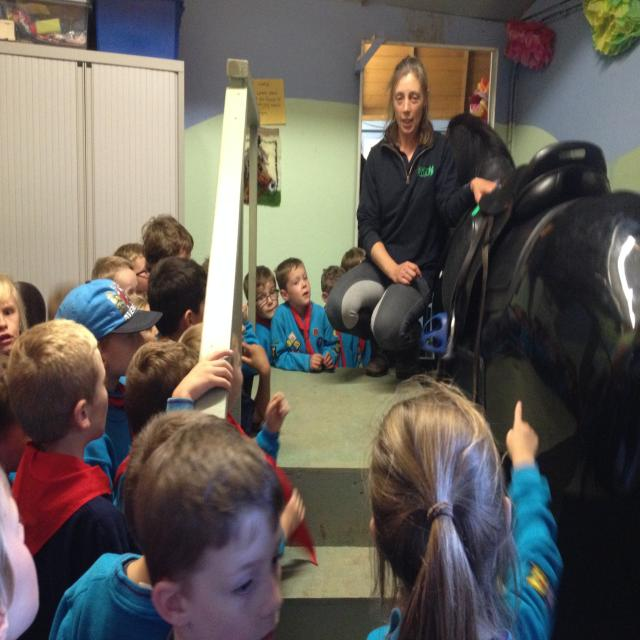body: (0, 388, 308, 640), (326, 55, 500, 383), (354, 376, 563, 640), (5, 318, 131, 640), (54, 278, 164, 518), (92, 208, 210, 327), (127, 329, 271, 389), (269, 256, 341, 374), (320, 264, 367, 369), (242, 264, 280, 366), (0, 277, 45, 360), (42, 278, 78, 312), (343, 241, 369, 274)
